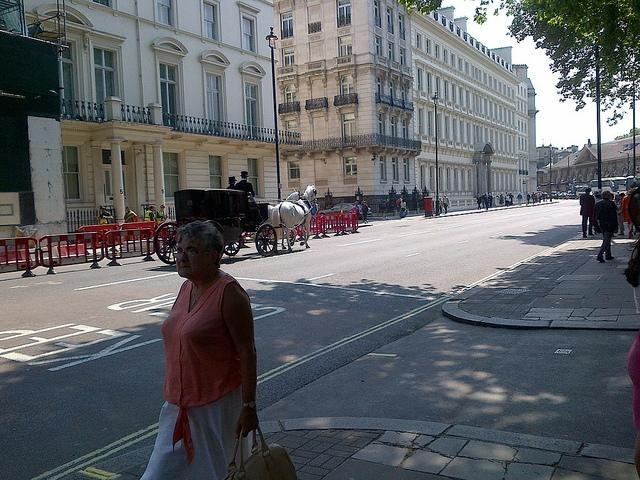bus: (602, 176, 628, 200)
car: (318, 203, 372, 220)
